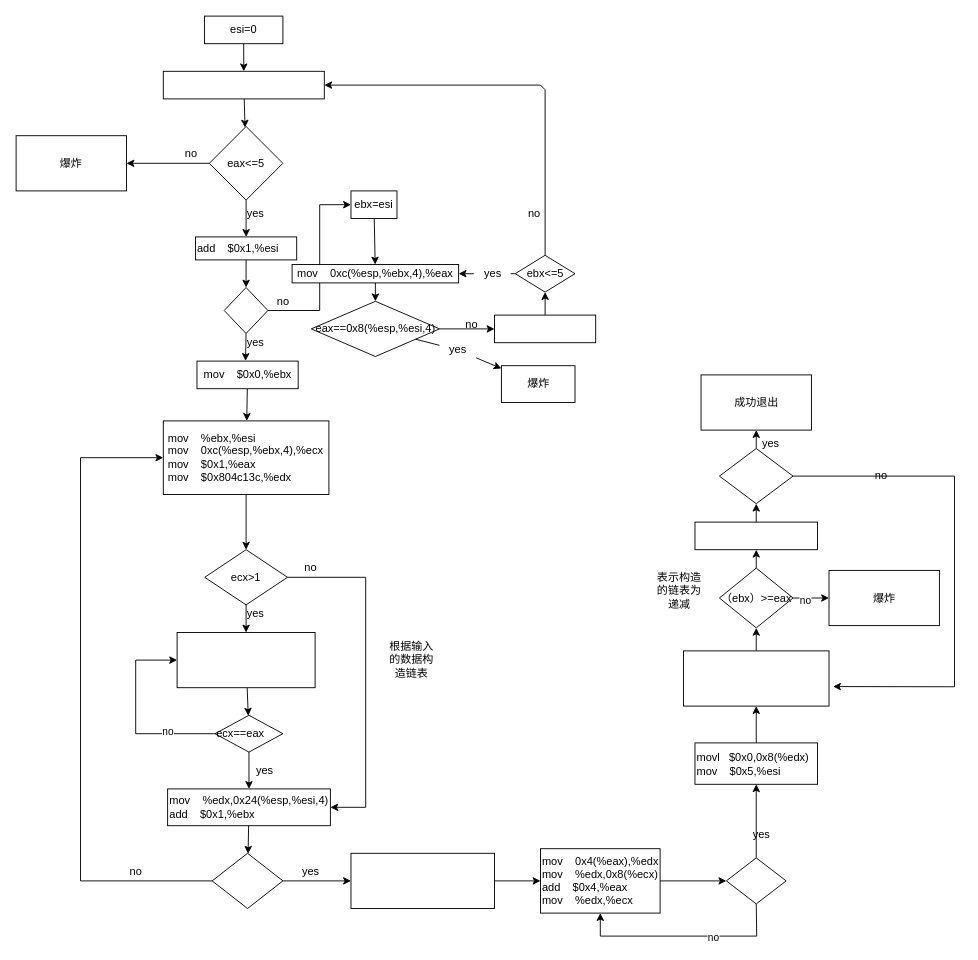
Some shapes in this 978 by 960 pixel diagram are drawn without their labels. Each missing label, with the centre of its shape:
add $0x1,%ebx: the point at 545,328
eax==esi: the point at 755,880
ebx==6: the point at 247,880
esi-- esi==0: the point at 756,476
esi==6: the point at 245,310
mov 0x24(%esp),%ebx lea 0x24(%esp),%eax lea 0x38(%esp),%esi mov %ebx,%ecx: the point at 422,880
mov 0x8(%ebx),%eax mov (%eax),%eax: the point at 756,678
mov 0x8(%ebx),%ebx: the point at 756,535
mov 0x8(%edx),%edx add $0x1,%eax: the point at 245,660
mov 0xc(%esp,%esi,4),%eax sub $0x1,%eax: the point at 243,84
